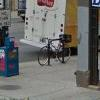Bicycle: (38, 33, 74, 66)
